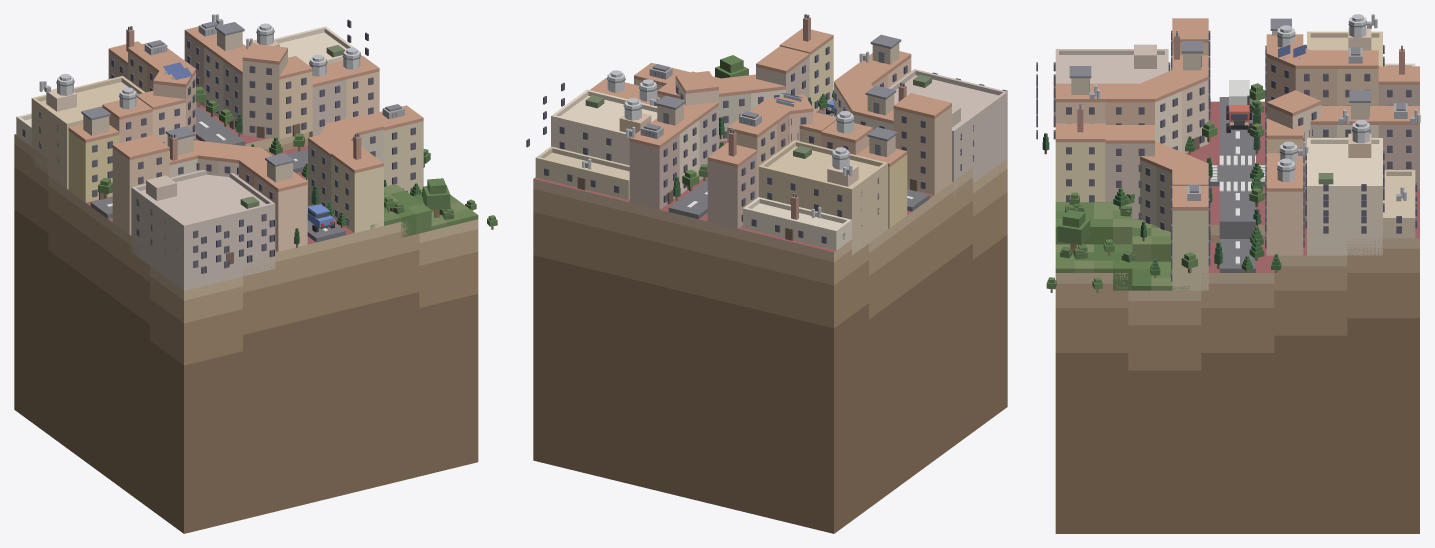
The model's file is block_15_engineered_20.glb.
3 renders of one model, left to right at view 1: azimuth 30°, elevation 25°; view 2: azimuth 150°, elevation 25°; view 3: azimuth 270°, elevation 25°, orthographic. The views are drawn at different scales.
Visible parts, largest first — view 1: Patch_MidRight_b16_ES, Cerda_MidRight_b16_ES, Insets_MidRight_b16_ES, CerdaRoofProps_MidRight_b16_ES, Green_MidRight_b16_ES, Roads_MidRight_b16_ES, Asset_Tree_Round.063_ES, Asset_Car.031_ES; view 2: Patch_MidRight_b16_ES, Cerda_MidRight_b16_ES, Insets_MidRight_b16_ES, CerdaRoofProps_MidRight_b16_ES, Roads_MidRight_b16_ES, Asset_Tree_Round.063_ES; view 3: Patch_MidRight_b16_ES, Cerda_MidRight_b16_ES, Insets_MidRight_b16_ES, Green_MidRight_b16_ES, CerdaRoofProps_MidRight_b16_ES, Roads_MidRight_b16_ES, Asset_Truck.008_ES, Asset_Tree_Round.063_ES, Zebra_MidRight_b16_ES.
Part boxes in pixels (x1,y1,x2,y2): Patch_MidRight_b16_ES: [14, 102, 478, 533]; Cerda_MidRight_b16_ES: [68, 26, 423, 251]; Insets_MidRight_b16_ES: [16, 19, 368, 290]; CerdaRoofProps_MidRight_b16_ES: [39, 14, 404, 182]; Green_MidRight_b16_ES: [370, 184, 478, 237]; Roads_MidRight_b16_ES: [90, 105, 345, 242]; Asset_Tree_Round.063_ES: [423, 178, 450, 217]; Asset_Car.031_ES: [307, 204, 334, 232]; Patch_MidRight_b16_ES: [533, 107, 1007, 533]; Cerda_MidRight_b16_ES: [590, 28, 951, 228]; Insets_MidRight_b16_ES: [526, 69, 1007, 255]; CerdaRoofProps_MidRight_b16_ES: [582, 14, 906, 219]; Roads_MidRight_b16_ES: [668, 109, 929, 219]; Asset_Tree_Round.063_ES: [715, 55, 748, 78]; Patch_MidRight_b16_ES: [1055, 101, 1419, 533]; Cerda_MidRight_b16_ES: [1055, 18, 1419, 290]; Insets_MidRight_b16_ES: [1036, 27, 1417, 255]; Green_MidRight_b16_ES: [1055, 202, 1189, 290]; CerdaRoofProps_MidRight_b16_ES: [1069, 14, 1420, 201]; Roads_MidRight_b16_ES: [1210, 97, 1264, 272]; Asset_Truck.008_ES: [1226, 80, 1252, 132]; Asset_Tree_Round.063_ES: [1057, 209, 1090, 251]; Zebra_MidRight_b16_ES: [1210, 155, 1265, 191].
Bounding box in the file's own units: 10.04 × 11.2 × 10.01.
